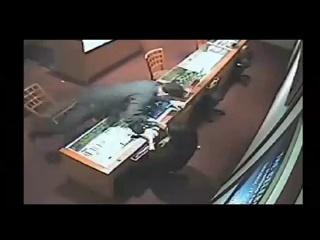shoplifting: (74, 60, 212, 184)
